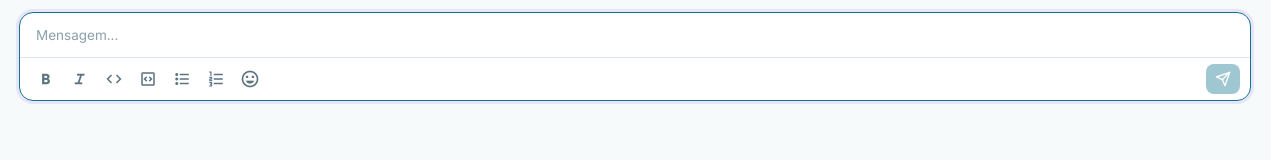
Test case: ChatComposer list UX › hides the placeholder when an empty list is created
This screenshot has width=1271, height=160.
Check: the text "Mensagem..." is shown, box [36,25,118,45]
Click the button with test id "fmt-ul" at (182, 79), box [166,64,198,94]
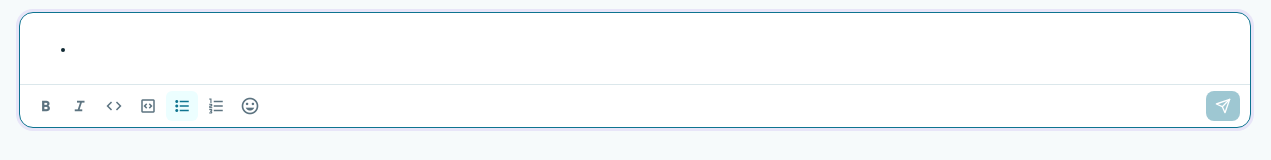
Check: the text "Mensagem..." is gone
Check: the list is shown, box [36,38,1234,59]
